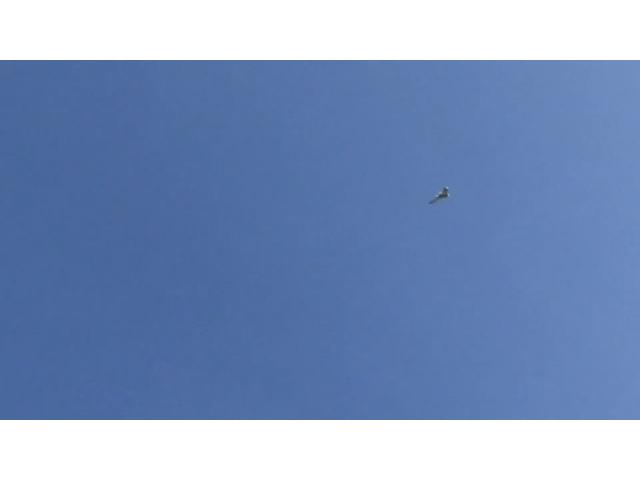Anti-Drone: (417, 167, 469, 218)
